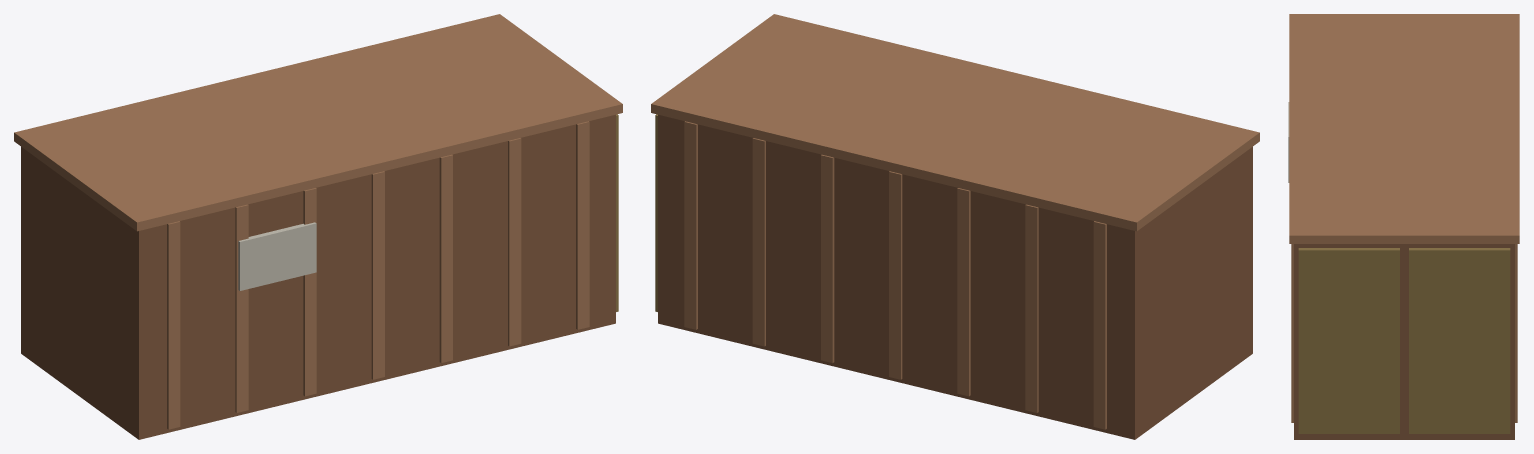
Rendered from container.glb.
3 renders of one model, left to right at view 1: azimuth 30°, elevation 25°; view 2: azimuth 150°, elevation 25°; view 3: azimuth 270°, elevation 25°, orthographic. The views are drawn at different scales.
Parts seen in each view (by area): view 1: body, roof, placard, rib3, rib6, rib4, rib0, rib5, rib1, rib2, door_l; view 2: body, roof, rib1, rib3, rib6, rib4, rib0, rib2, rib5, door_r; view 3: roof, door_l, door_r, body, rib6.
Part boxes in pixels (x1=…): body: x1=21, y1=114, x2=615, y2=439; roof: x1=14, y1=14, x2=622, y2=231; placard: x1=238, y1=222, x2=316, y2=290; rib3: x1=371, y1=171, x2=384, y2=379; rib6: x1=576, y1=121, x2=589, y2=329; rib4: x1=439, y1=154, x2=452, y2=362; rib0: x1=167, y1=221, x2=180, y2=429; rib5: x1=508, y1=138, x2=521, y2=346; rib1: x1=235, y1=204, x2=248, y2=412; rib2: x1=303, y1=188, x2=316, y2=396; door_l: x1=616, y1=114, x2=618, y2=311; body: x1=658, y1=114, x2=1252, y2=439; roof: x1=651, y1=14, x2=1259, y2=231; rib1: x1=1025, y1=204, x2=1038, y2=412; rib3: x1=889, y1=171, x2=902, y2=379; rib6: x1=684, y1=121, x2=697, y2=329; rib4: x1=821, y1=154, x2=834, y2=362; rib0: x1=1093, y1=221, x2=1106, y2=429; rib2: x1=957, y1=188, x2=970, y2=396; rib5: x1=752, y1=138, x2=765, y2=346; door_r: x1=655, y1=114, x2=657, y2=311; roof: x1=1289, y1=14, x2=1519, y2=243; door_l: x1=1298, y1=248, x2=1399, y2=433; door_r: x1=1409, y1=248, x2=1510, y2=433; body: x1=1294, y1=244, x2=1514, y2=439; rib6: x1=1291, y1=244, x2=1517, y2=422.
Bounding box in the file's own units: 5.71 × 2.47 × 2.51.
